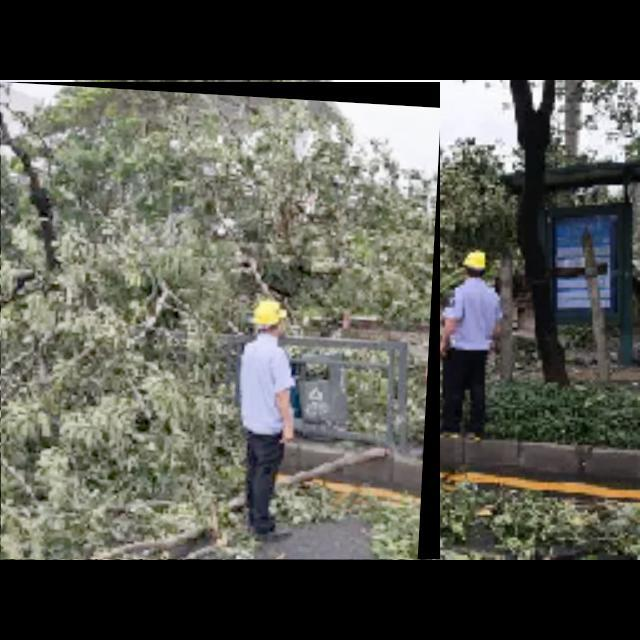fallen_tree: (1, 82, 441, 560)
